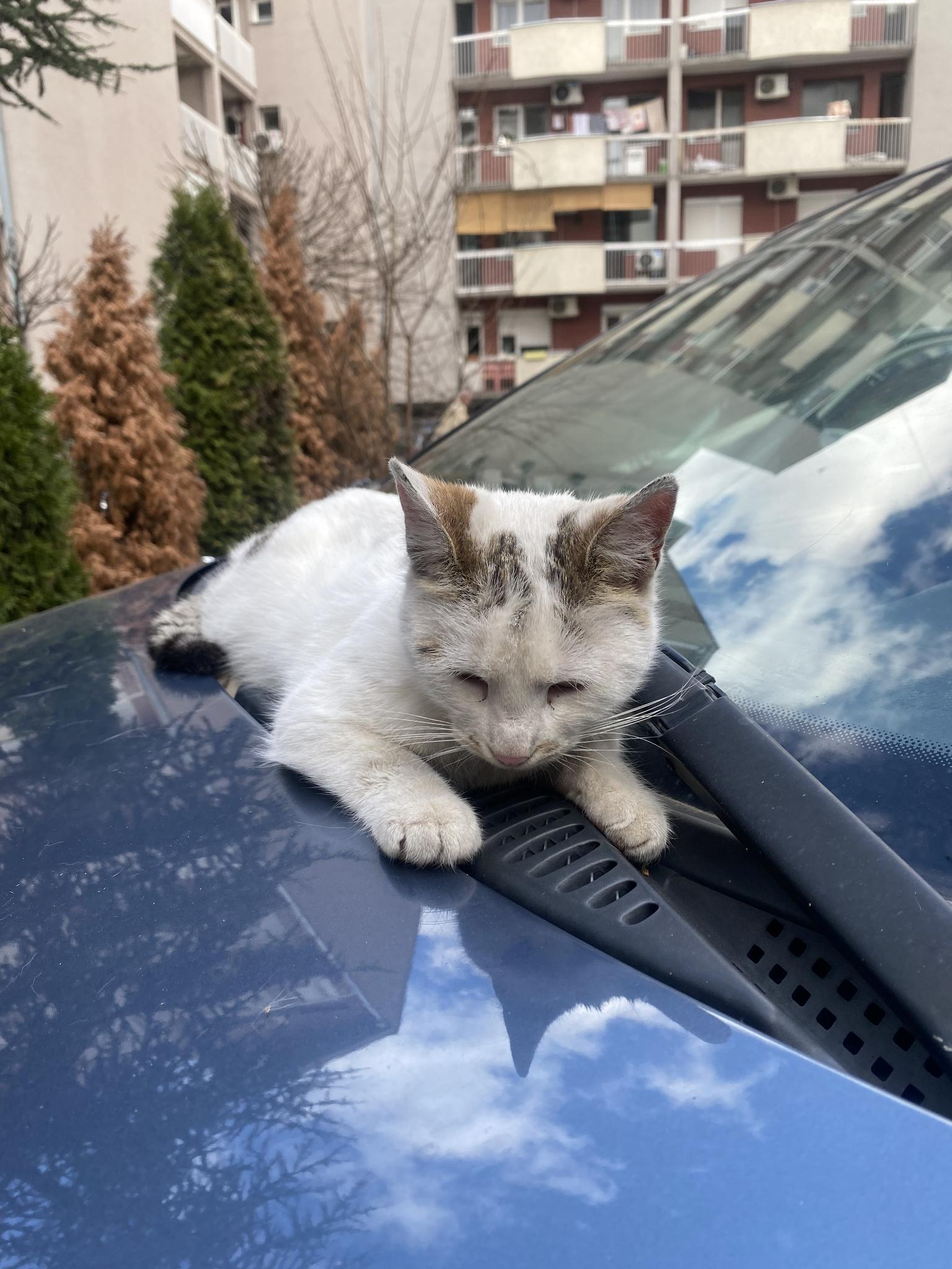macka: (148, 455, 678, 880)
